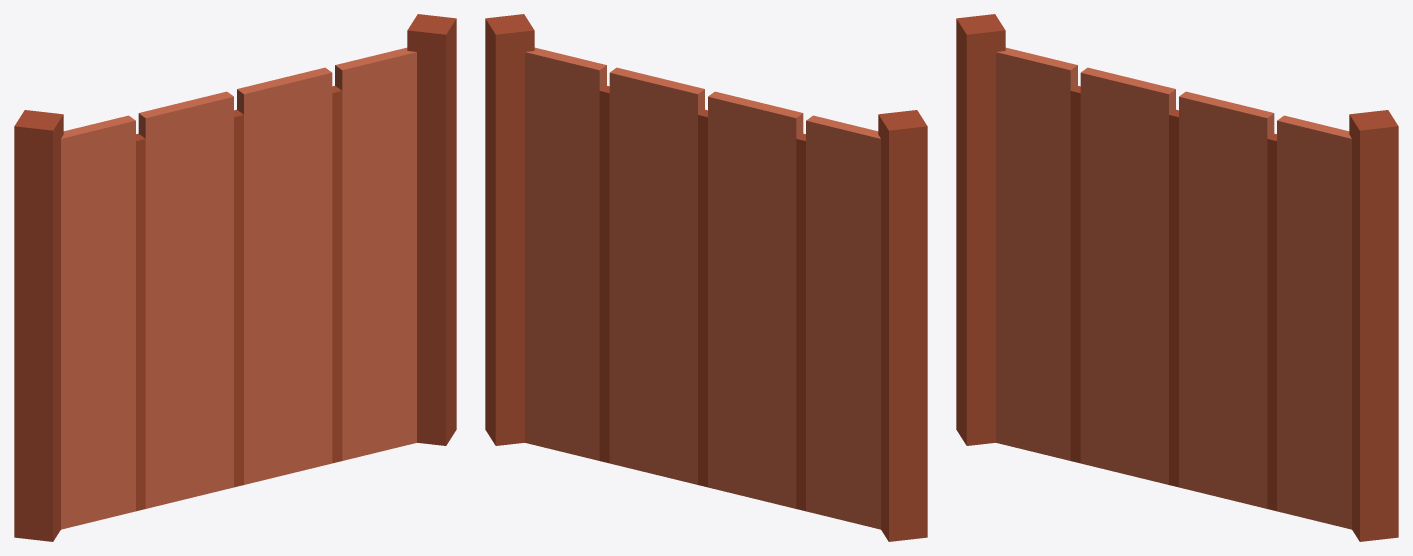
Rendered from Fence.fbx.
The picture shows the model from 3 angles, left to right: view 1: azimuth 30°, elevation 25°; view 2: azimuth 150°, elevation 25°; view 3: azimuth 330°, elevation 25°; orthographic projection.
Parts seen in each view (by area): view 1: mergedBlocks; view 2: mergedBlocks; view 3: mergedBlocks.
Boxes of the visible parts, x1,y1,x2,y2 form: mergedBlocks: (14, 14, 456, 541); mergedBlocks: (485, 14, 927, 541); mergedBlocks: (956, 14, 1398, 541).
Bounding box in the file's own units: 11.25 × 10 × 1.25.
